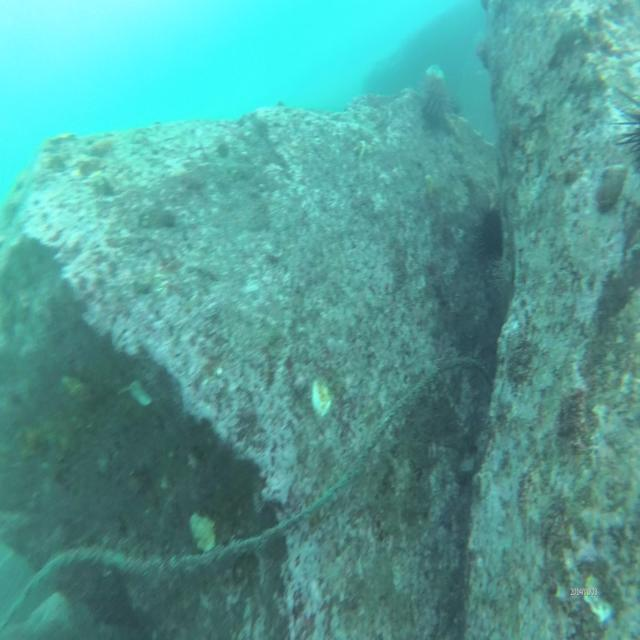echinus: (476, 199, 508, 272), (418, 69, 451, 132)
